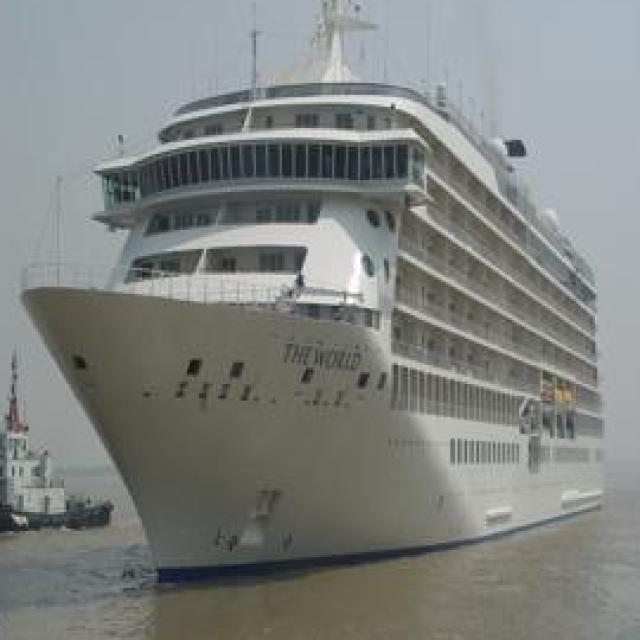passenger ship: (24, 0, 607, 574), (0, 353, 116, 531)
